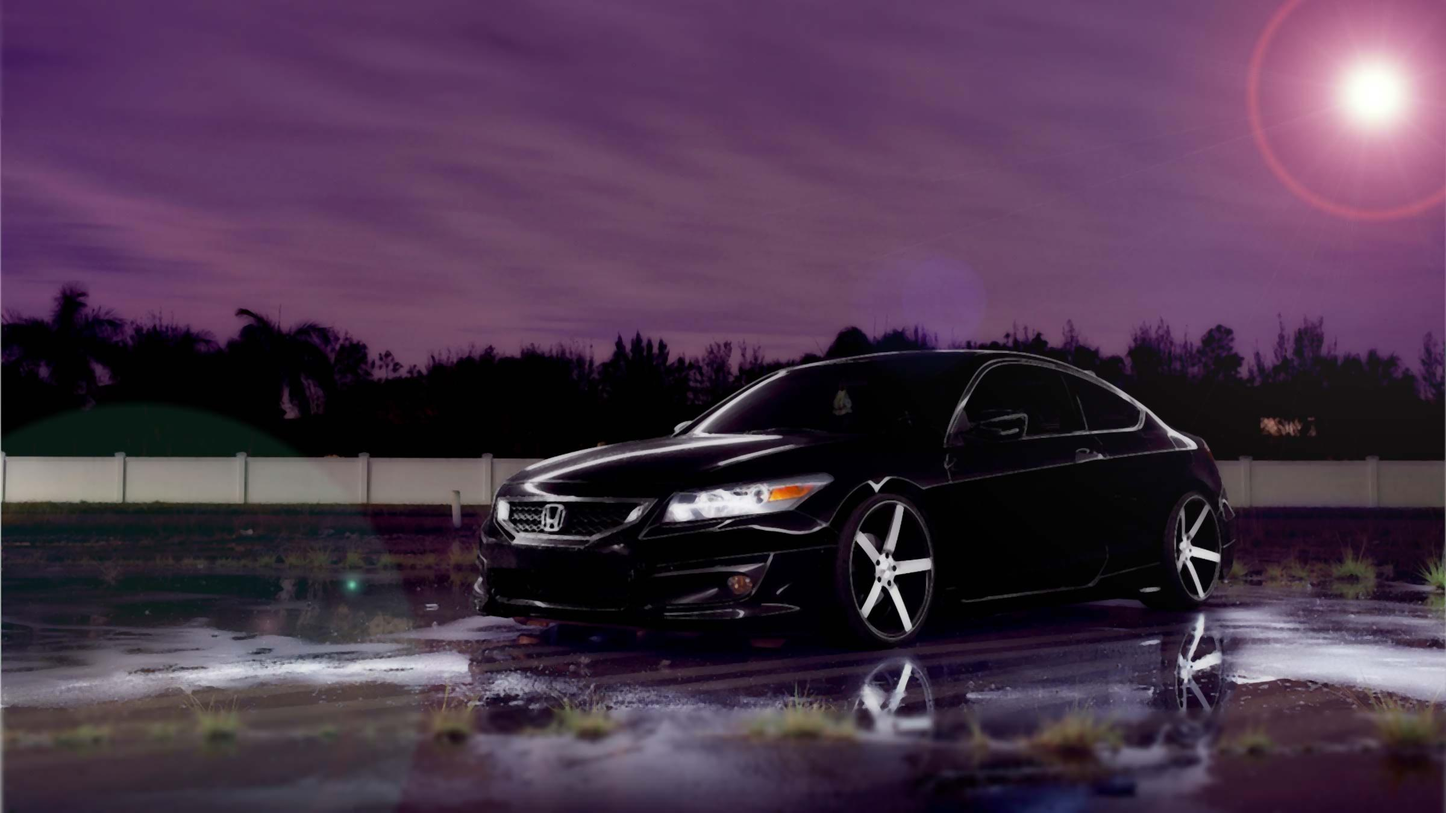Car hood: (510, 427, 910, 492)
Fender - -F-L-: (810, 437, 964, 602)
Fender - -R-L-: (1102, 410, 1224, 594)
Front bumper: (465, 516, 858, 628)
Headlight - -L-: (658, 475, 835, 527)
Passenger-s door - -F-L-: (921, 341, 1115, 636)
Side bumper - -L-: (937, 551, 1177, 634)
Side mirror - -L-: (944, 408, 1028, 457)
